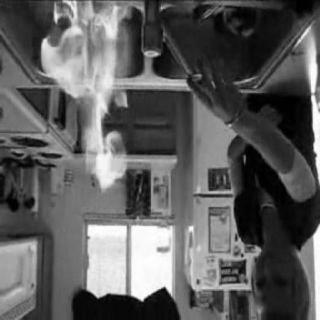Fire: (23, 2, 153, 240)
